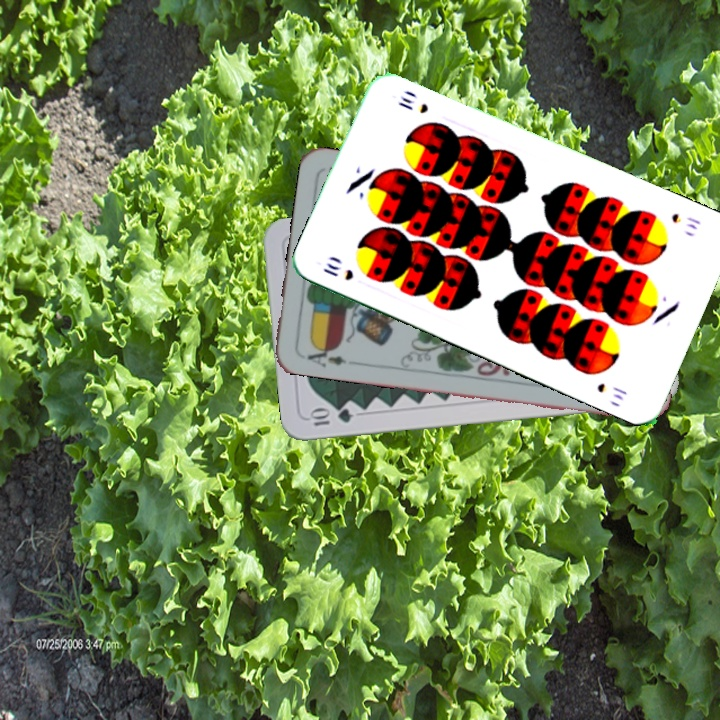EA: (303, 341, 349, 370)
G10: (305, 405, 355, 429)
S10: (319, 258, 357, 283), (667, 209, 704, 233)
